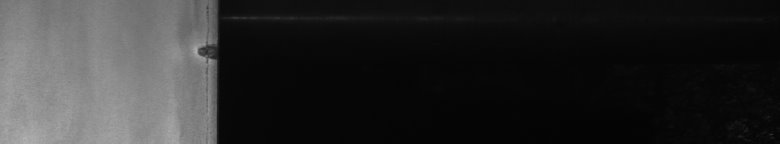hb: (191, 4, 204, 64)
